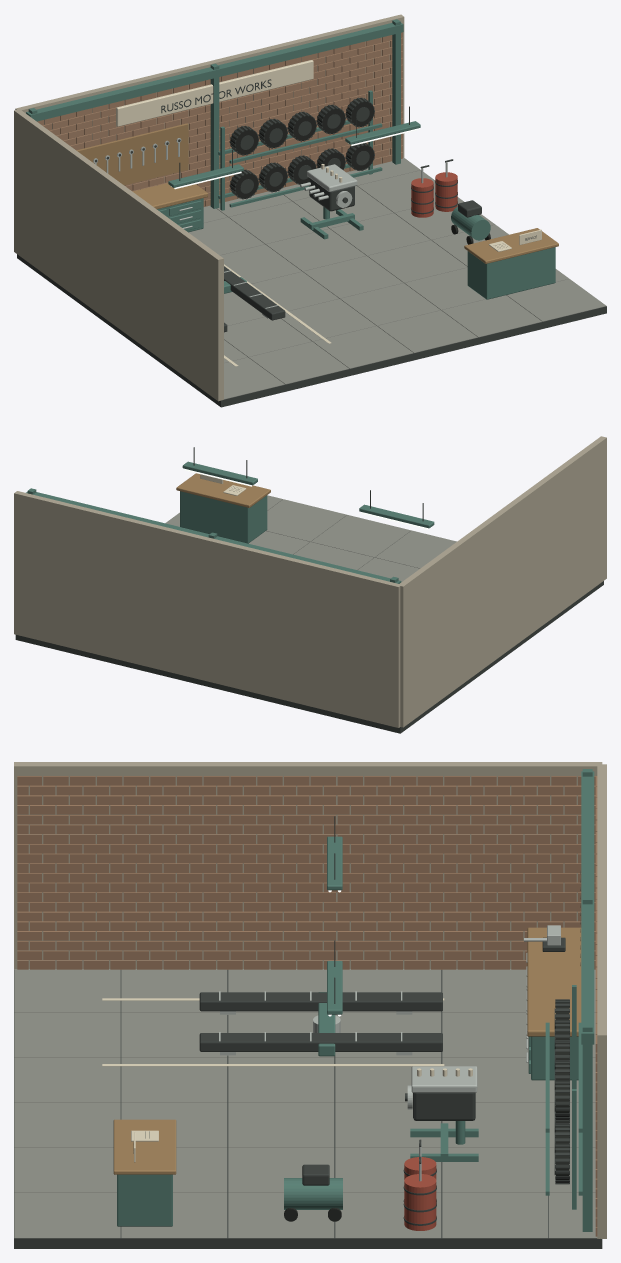
Rendered from interior-garage.glb.
The picture shows the model from 3 angles, top to bottom: view 1: azimuth 30°, elevation 25°; view 2: azimuth 150°, elevation 25°; view 3: azimuth 270°, elevation 25°; orthographic projection. The views are drawn at different scales.
Visible parts, largest first — view 1: concrete slab, left masonry, rear brick, workshop foundation, lift crossmember, rear steel column, spare tyre, tool board, garage sign, rear masonry, workbench timber top, oil drum (+2 smaller); view 2: rear masonry, left masonry, concrete slab, lift crossmember, workshop foundation, rear steel column, workbench timber top; view 3: concrete slab, side brick, workshop foundation, left masonry, lift crossmember, workbench timber top, rear steel column, rear masonry, lift support, oil drum, service bay stripe, spare tyre (+1 smaller).
Part boxes in pixels (<box>): concrete slab: <box>188,158,606,399</box>; left masonry: <box>14,110,223,401</box>; rear brick: <box>37,32,402,206</box>; workshop foundation: <box>17,97,606,407</box>; lift crossmember: <box>157,90,555,299</box>; rear steel column: <box>26,19,403,208</box>; spare tyre: <box>230,98,490,244</box>; tool board: <box>76,123,188,185</box>; garage sign: <box>116,60,313,126</box>; rear masonry: <box>15,14,404,200</box>; workbench timber top: <box>132,183,558,263</box>; oil drum: <box>411,172,457,217</box>; rear masonry: <box>14,491,401,727</box>; left masonry: <box>400,436,606,727</box>; concrete slab: <box>165,495,456,581</box>; lift crossmember: <box>180,461,434,543</box>; workshop foundation: <box>15,447,603,733</box>; rear steel column: <box>26,488,401,583</box>; workbench timber top: <box>176,473,270,507</box>; concrete slab: <box>14,969,597,1238</box>; side brick: <box>17,776,596,969</box>; workshop foundation: <box>14,816,602,1248</box>; left masonry: <box>14,762,602,969</box>; lift crossmember: <box>117,836,582,1226</box>; workbench timber top: <box>113,927,581,1174</box>; rear steel column: <box>581,769,594,1231</box>; rear masonry: <box>597,764,606,1238</box>; lift support: <box>219,925,560,1181</box>; oil drum: <box>404,1157,436,1230</box>; service bay stripe: <box>102,998,472,1162</box>; spare tyre: <box>284,1000,569,1221</box>.
Bounding box in the file's own units: 12.09 × 4.43 × 11.09.
